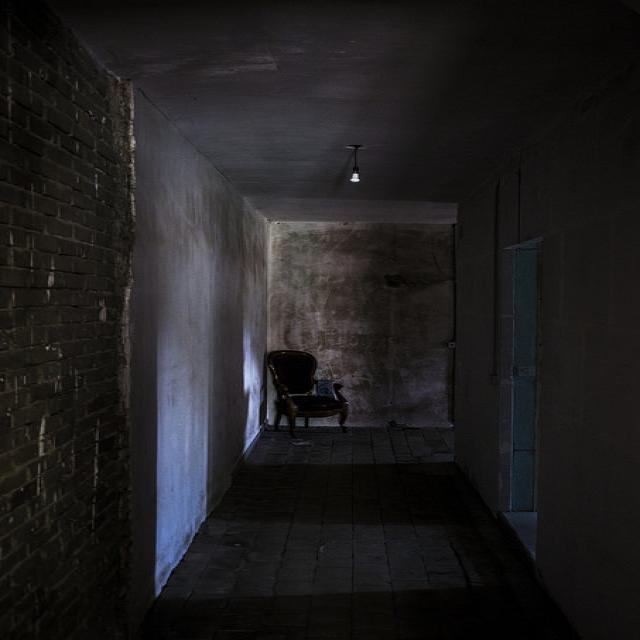chair: (244, 340, 365, 440)
